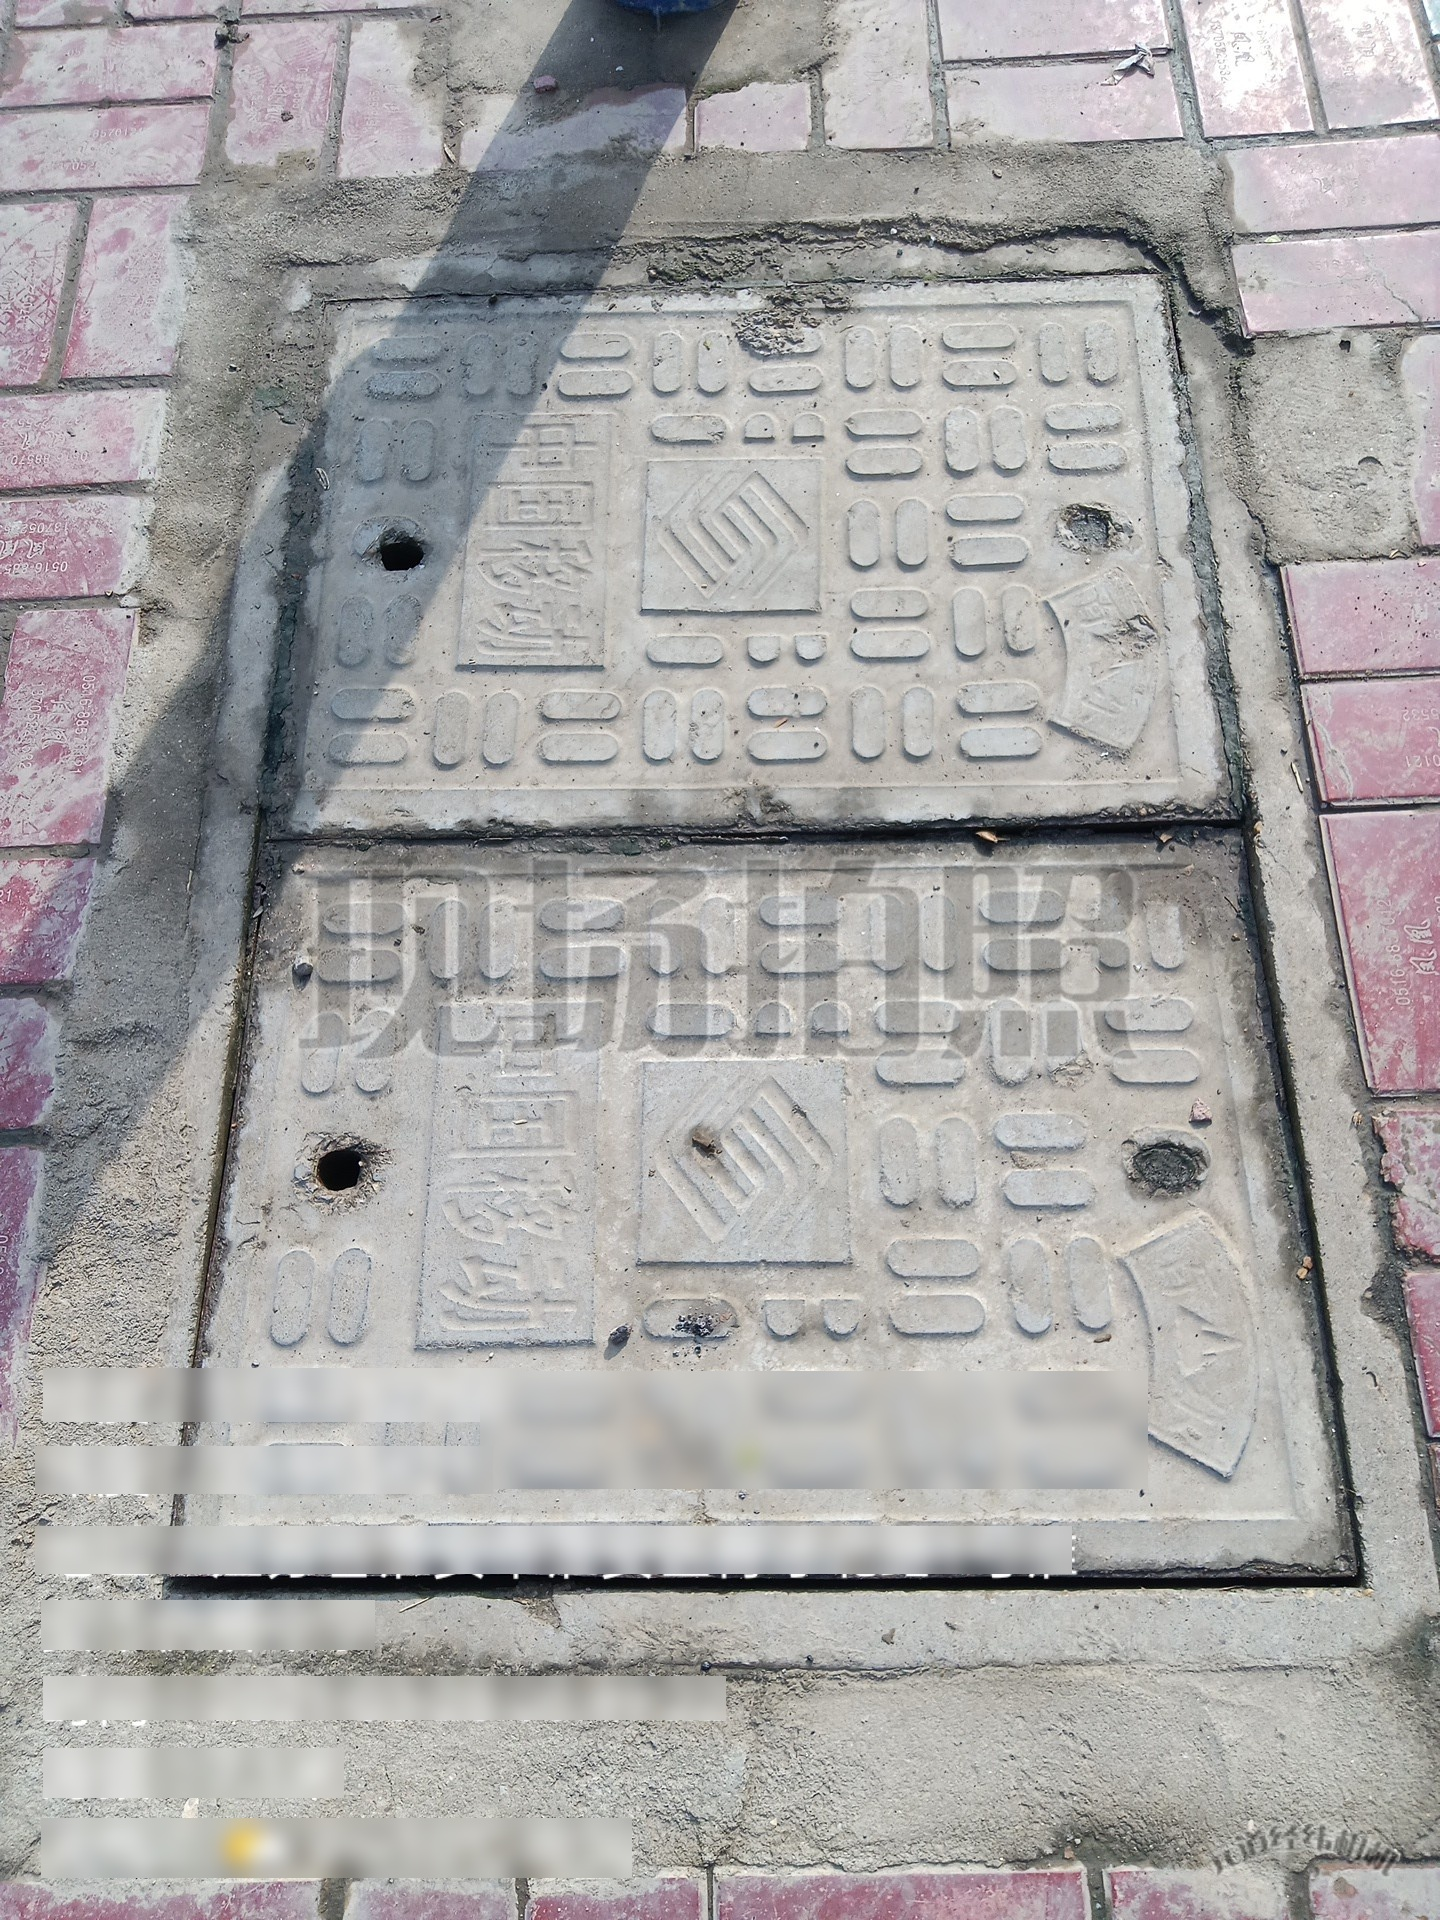good: (110, 231, 1440, 1671)
